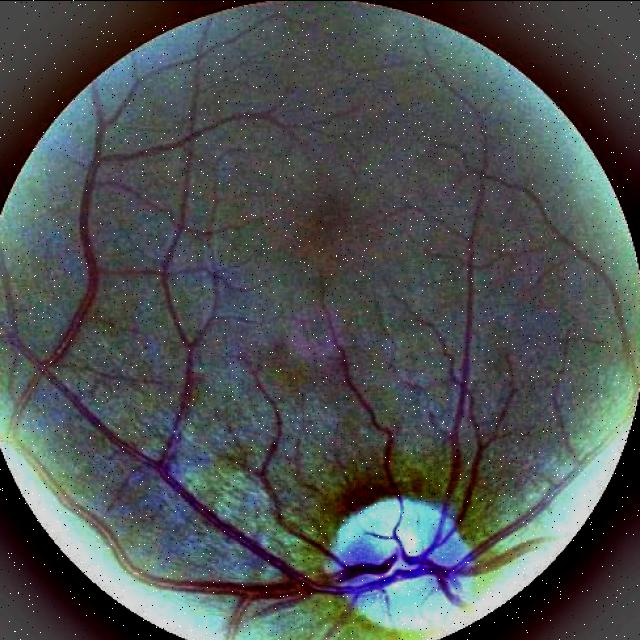Macula: (278, 185, 390, 305)
Nerves: (109, 431, 454, 606)
Optic Disk: (327, 484, 487, 630)
